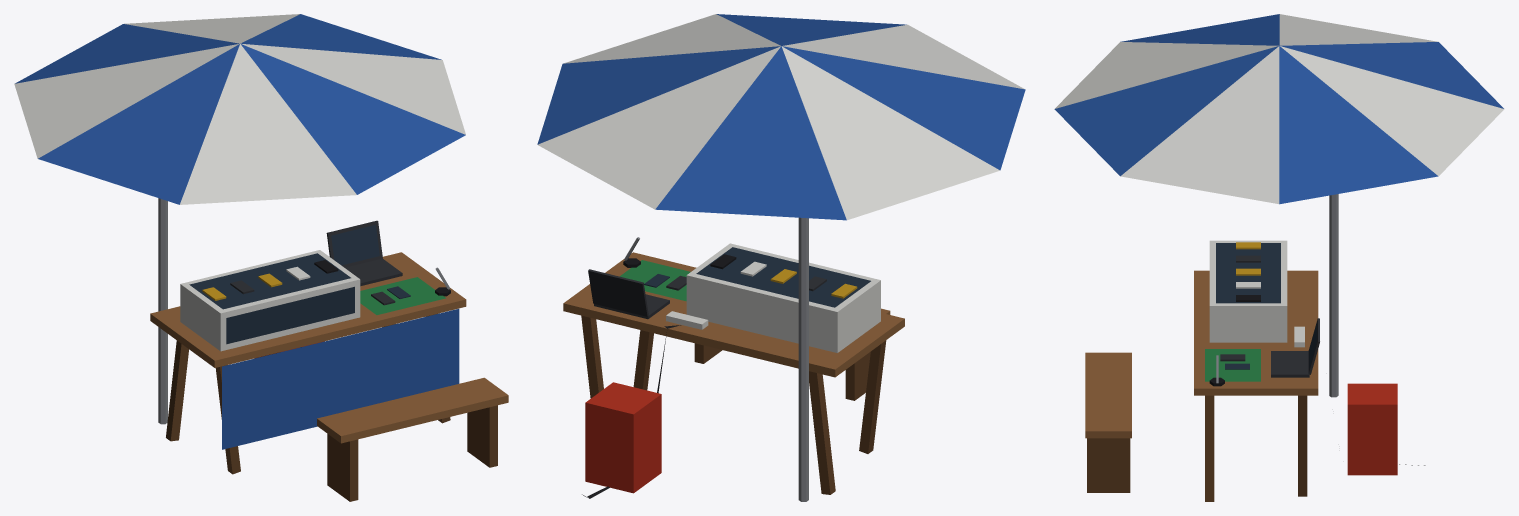
Rendered from prop_repair-table.glb.
3 renders of one model, left to right at view 1: azimuth 30°, elevation 25°; view 2: azimuth 150°, elevation 25°; view 3: azimuth 270°, elevation 25°, orthographic. The views are drawn at different scales.
Parts seen in each view (by area): view 1: body; view 2: body; view 3: body.
Boxes of the visible parts, x1,y1,x2,y2 form: body: [14, 14, 508, 501]; body: [537, 14, 1025, 501]; body: [1054, 14, 1504, 501].
Bounding box in the file's own units: 2.9 × 2.68 × 2.9.
